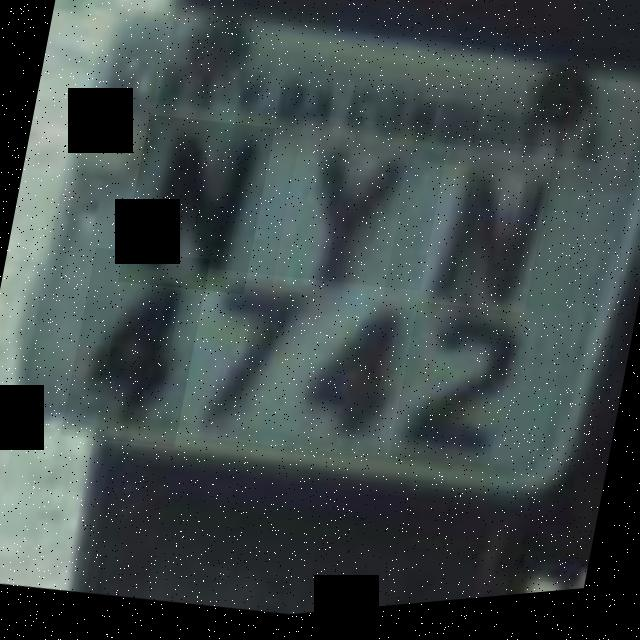2: (394, 286, 547, 481)
4: (60, 241, 210, 459), (290, 280, 420, 472)
7: (177, 264, 322, 461)
N: (118, 109, 275, 308), (418, 139, 556, 330)
Y: (272, 113, 416, 317)
